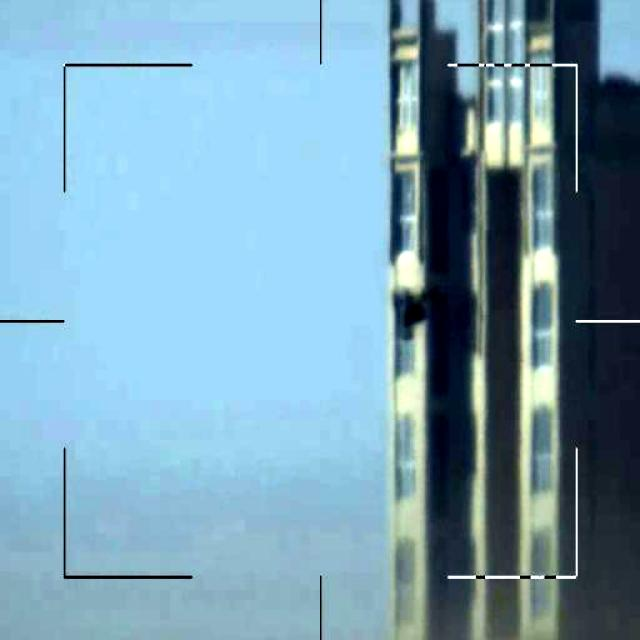bird: (380, 275, 439, 345)
